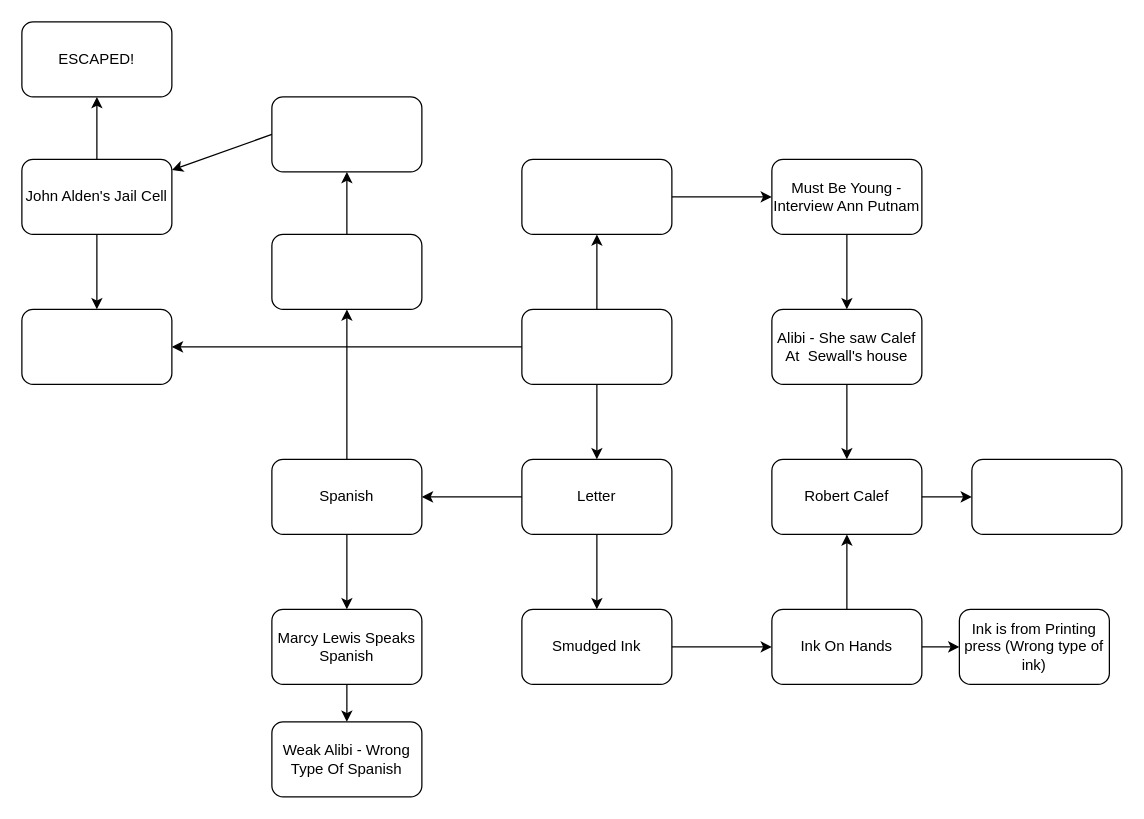
This 1144x819 diagram has some shape labels left out. Each missing label, with the centre of its shape:
Blood - "Unrelated accident": point 1046,496
Crime Scene: point 596,346
Find Poison On Floor: point 96,346
Message Of Letter - False Cognates: point 346,271
Room Size: point 596,196
Translate - Lead To Alden: point 346,134
